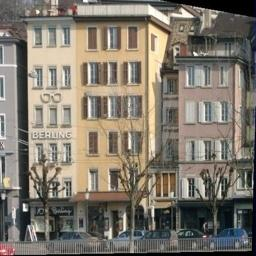building: (26, 0, 157, 247), (159, 8, 256, 242), (0, 23, 26, 256)
